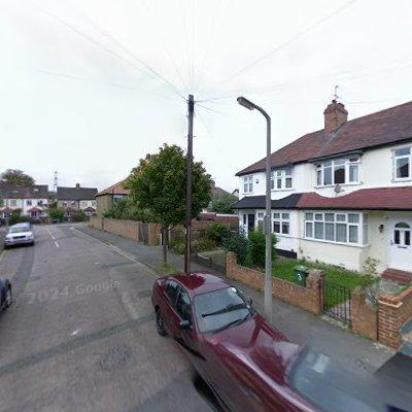moving-car: (0, 262, 12, 318)
stationary-car-onstreet: (151, 266, 411, 410), (1, 222, 34, 248)
